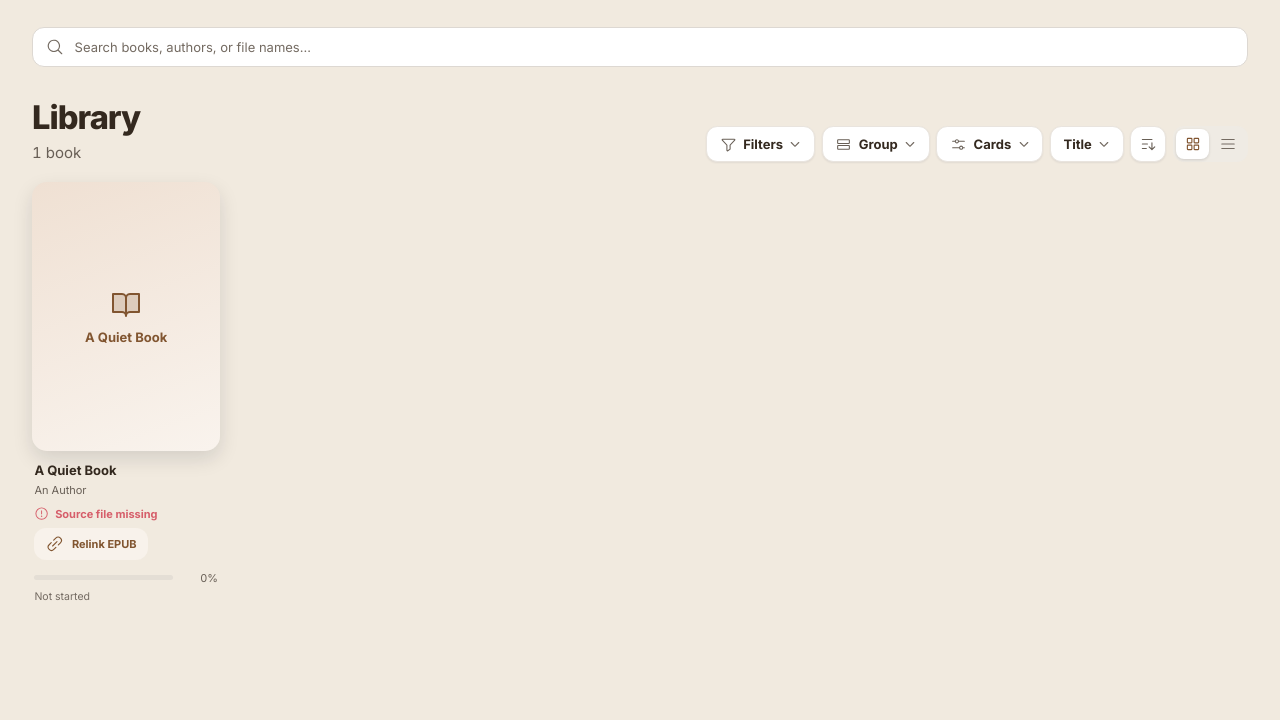
Library page › relinks a missing book through its visible recovery action without changing its catalog ID
Check: the text "Source file missing" is shown, box [34,506,158,521]
Click the button "Relink EPUB". click: x=91, y=544
box: [34,528,148,560]
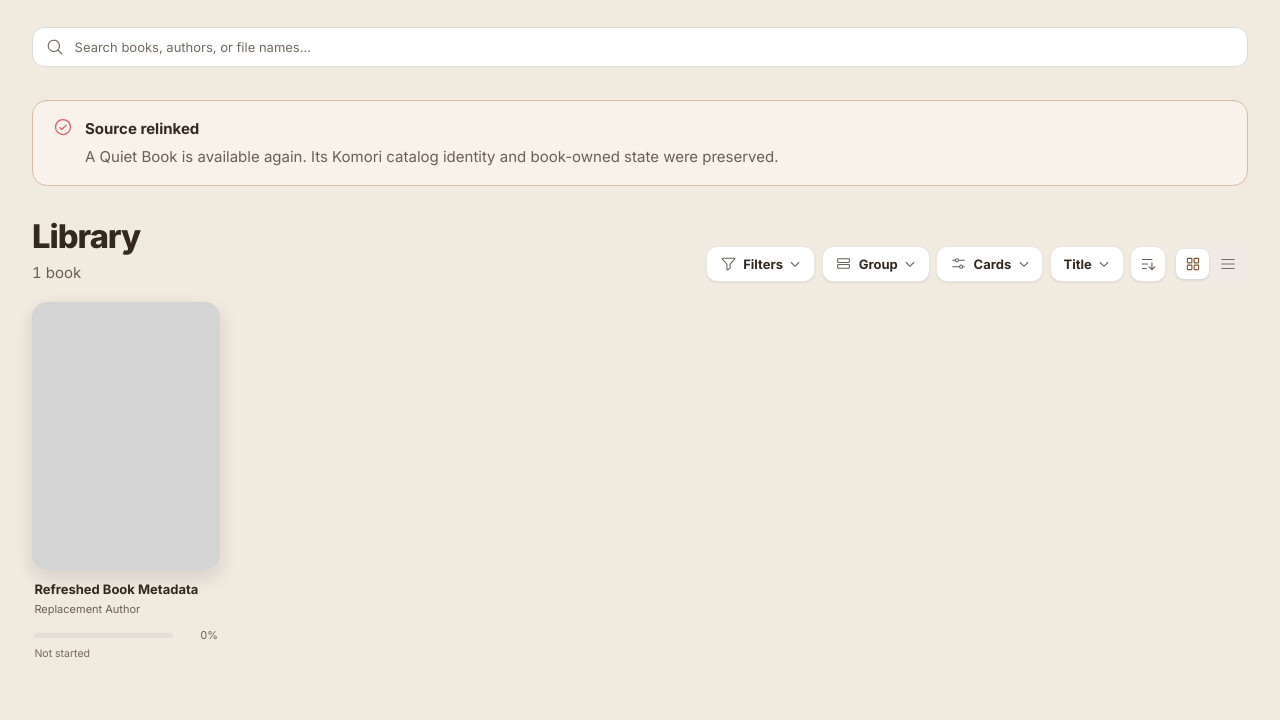
Check: the heading "Refreshed Book Metadata" is shown, box [34,581,218,599]
Check: the message shows "Source relinked", box [85,119,199,138]
Check: the message shows "catalog identity", box [85,147,778,166]
